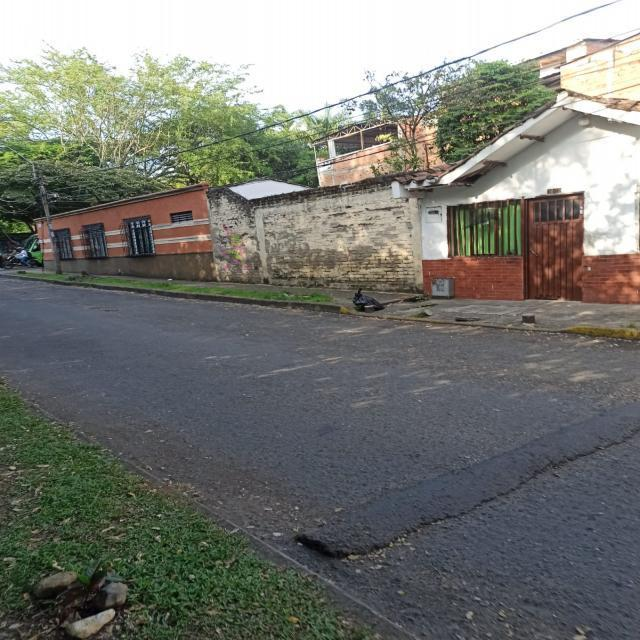Garbage_Bag: (352, 287, 386, 311)
